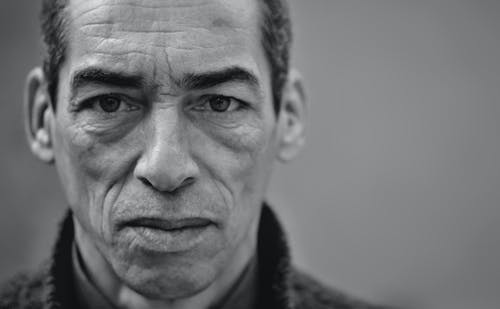PUFFY_EYES: (180, 74, 273, 146), (61, 77, 162, 142)
WRINKLES: (67, 1, 260, 64)
